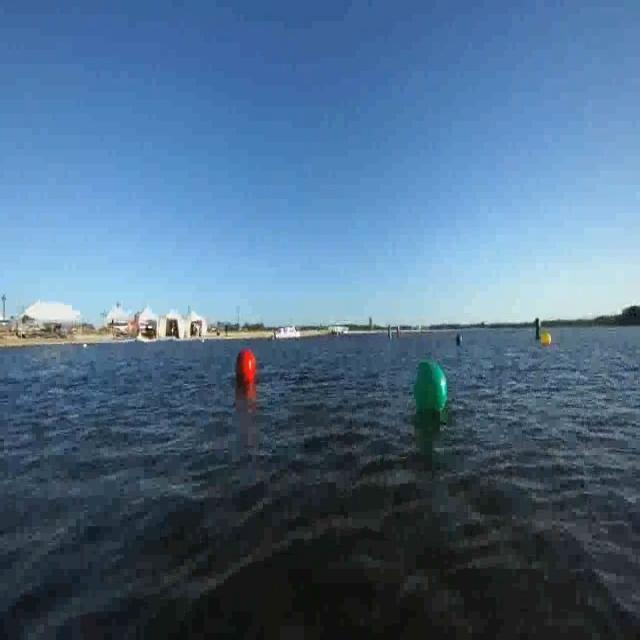blue-buoy: (456, 332, 464, 347)
green-buoy: (412, 358, 450, 414)
red-buoy: (235, 349, 253, 384)
yellow-buoy: (540, 332, 551, 348)
